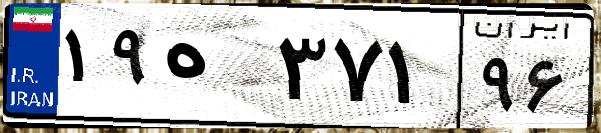1: (385, 28, 445, 110), (57, 26, 110, 100)
3: (270, 28, 330, 110)
6: (525, 38, 570, 115)
7: (330, 28, 385, 110)
9: (475, 38, 525, 113), (110, 28, 158, 98)
ه: (158, 20, 270, 120)
